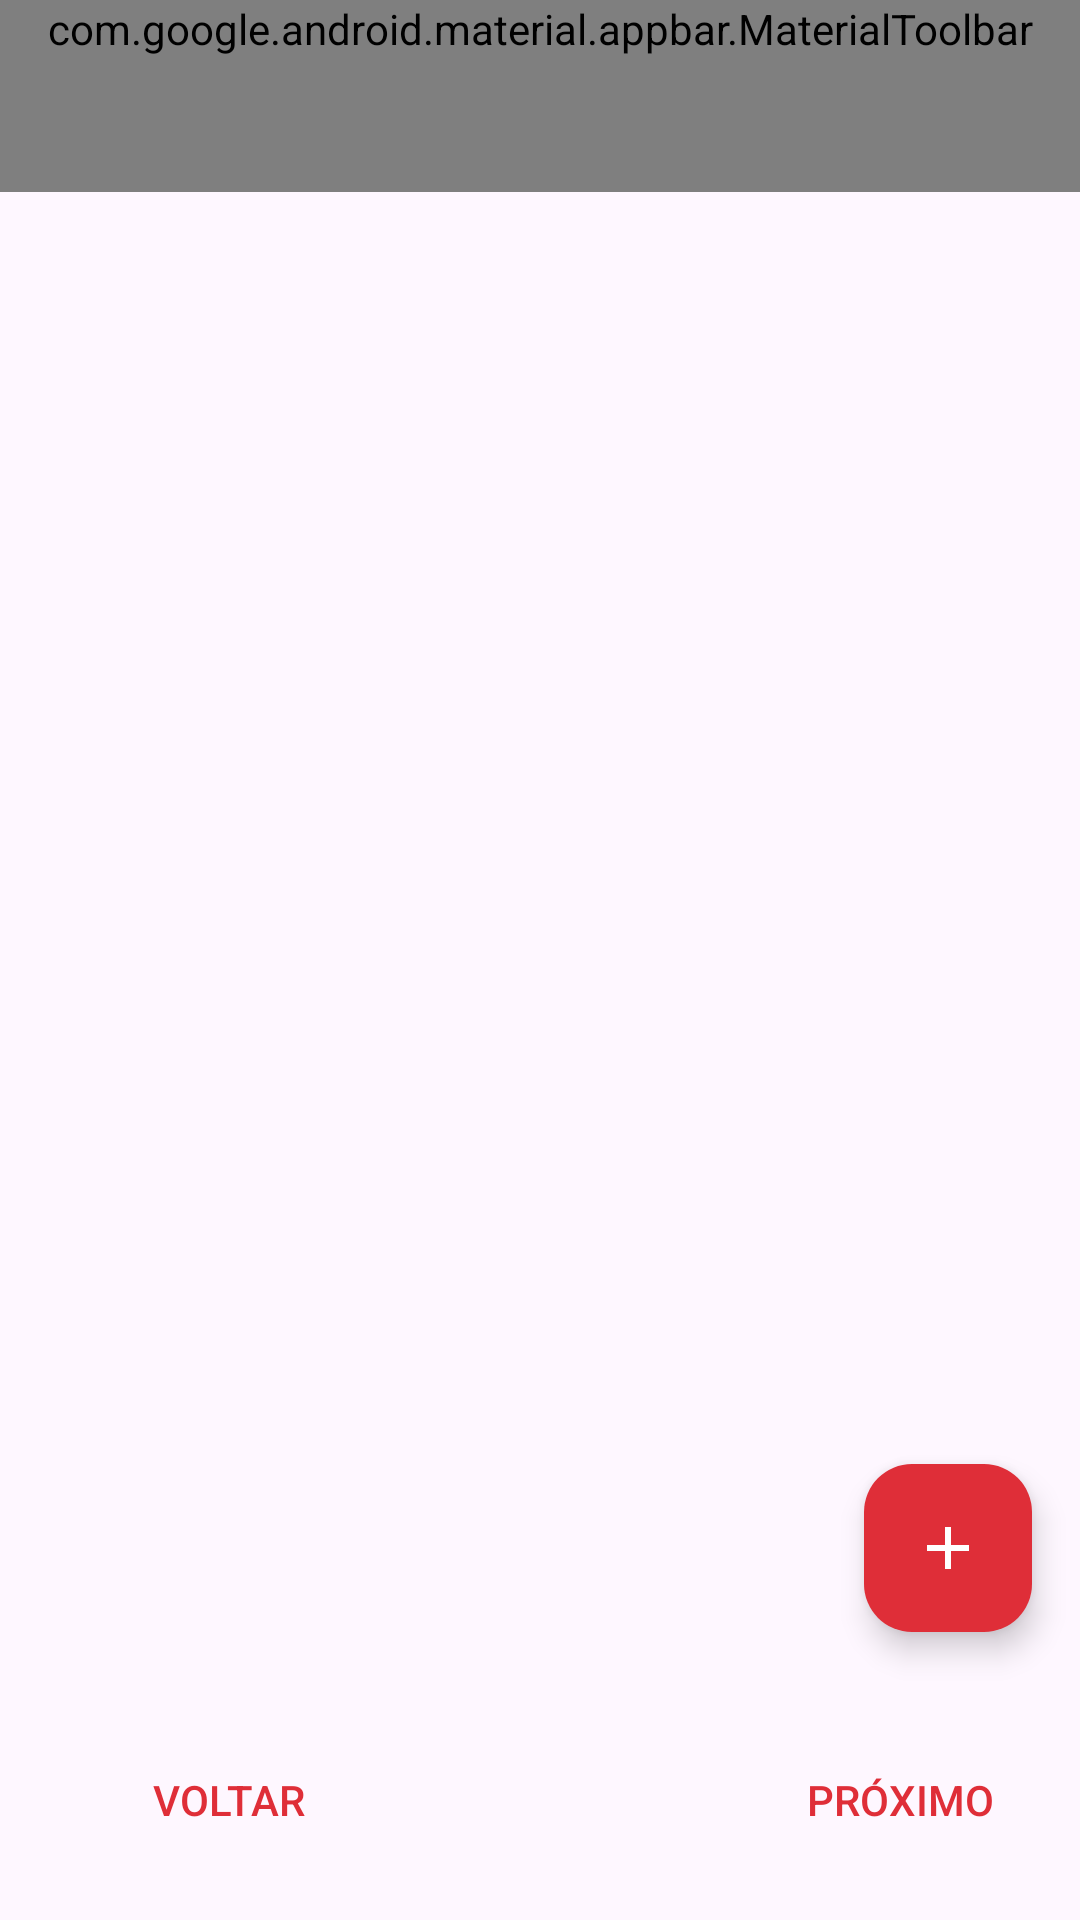

Named icons in this screenshot (1080px×1920px) and their bounding boxes, box=[x1, y1, x2, y2]:
add: box=[864, 1464, 1032, 1632]
